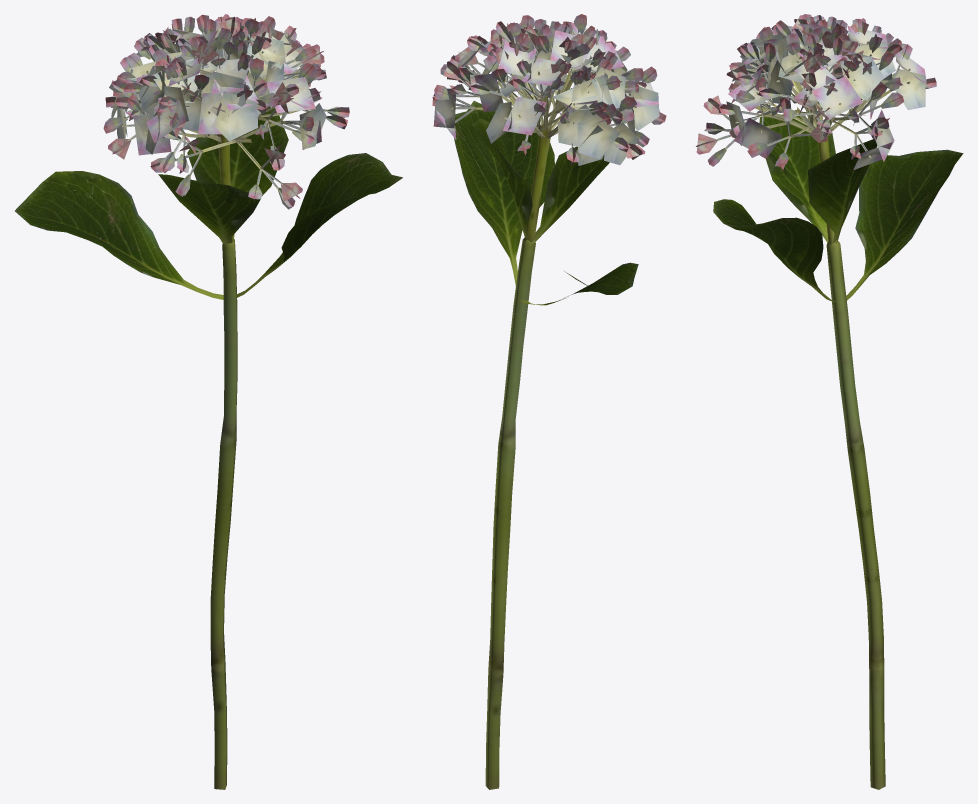
The model's file is Hydrangea_baby_normal_peach.glb.
3 renders of one model, left to right at view 1: azimuth 30°, elevation 25°; view 2: azimuth 150°, elevation 25°; view 3: azimuth 270°, elevation 25°, orthographic. The views are drawn at different scales.
Visible parts, largest first — view 1: BABY; view 2: BABY; view 3: BABY.
Boxes of the visible parts, box(x1,y1,x2,y2) form: BABY: box(15, 14, 402, 789); BABY: box(432, 14, 666, 789); BABY: box(696, 14, 963, 789).
Bounding box in the file's own units: 0.7928 × 2.22 × 0.7195.
1 material, 1 textured.
